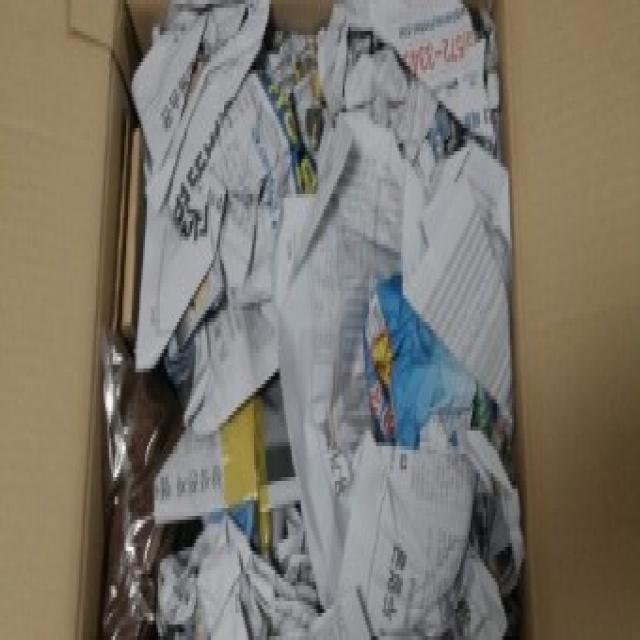Newspaper: (150, 40, 495, 640)
